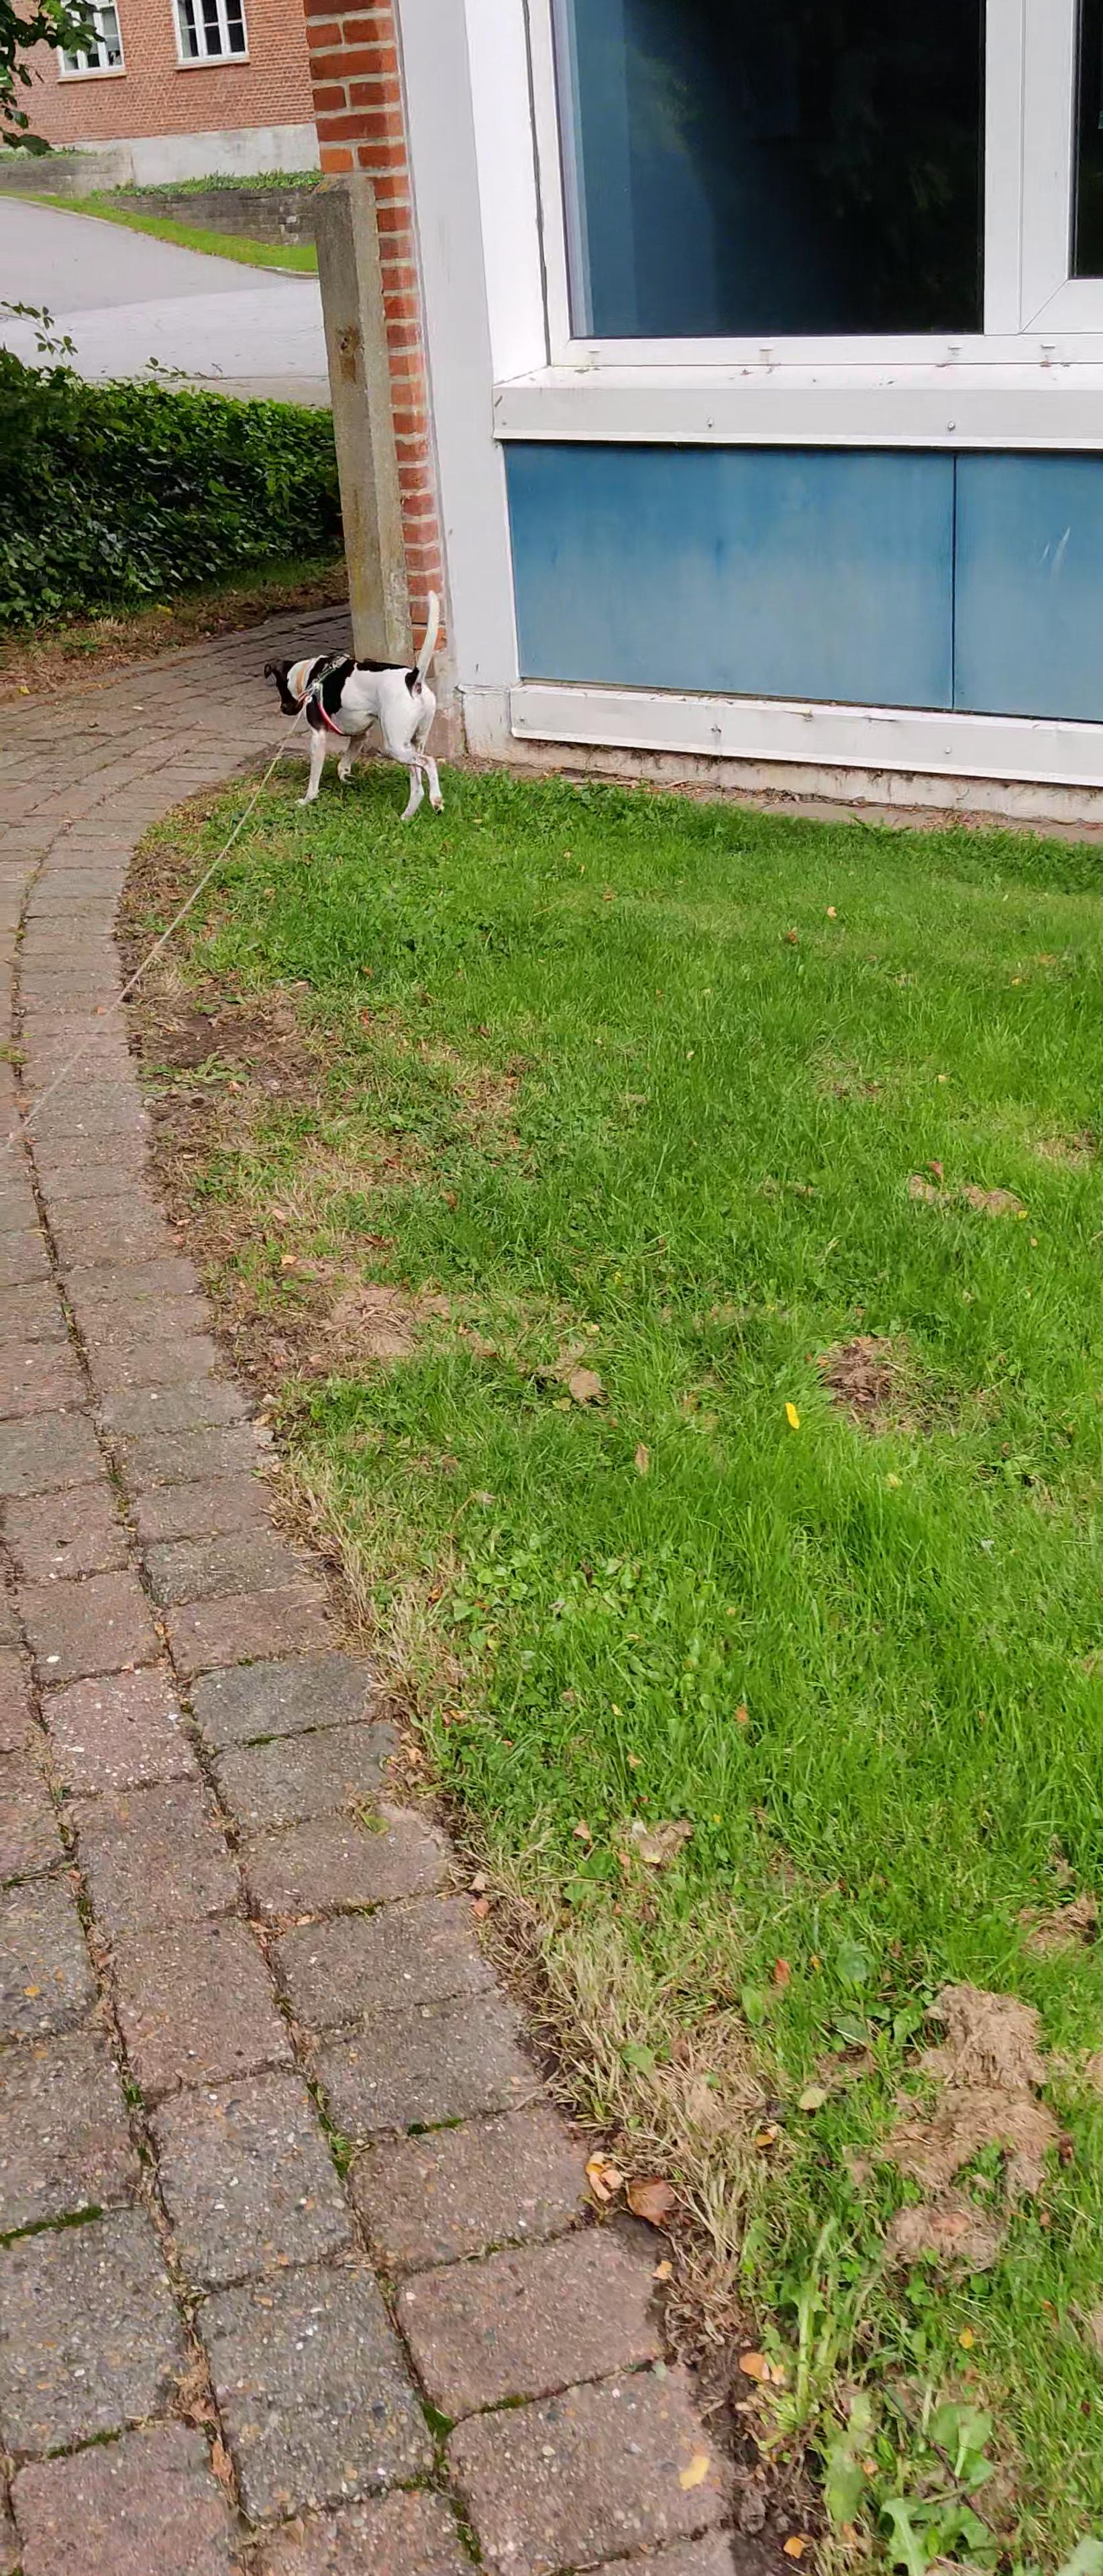Dog: (260, 582, 464, 823)
